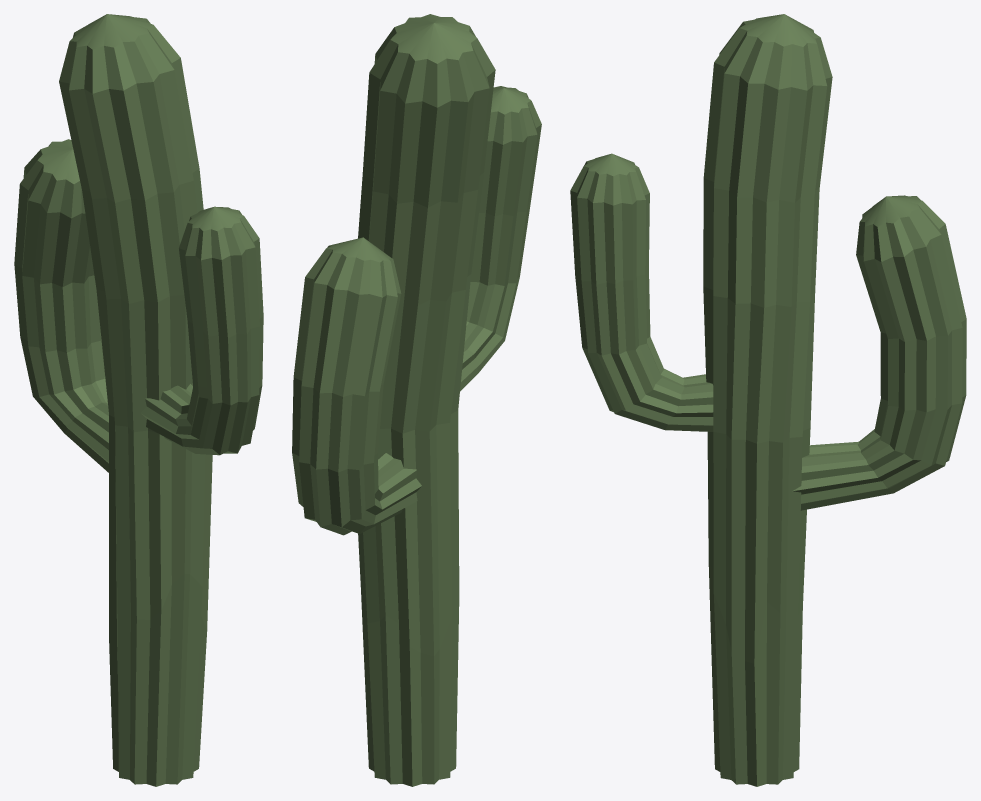
The model's file is Cactus1.glb.
3 views of the same model, side by side, from view 1: azimuth 30°, elevation 25°; view 2: azimuth 150°, elevation 25°; view 3: azimuth 270°, elevation 25° (orthographic). The views are drawn at different scales.
Parts seen in each view (by area): view 1: SM_Env_Cactus_01; view 2: SM_Env_Cactus_01; view 3: SM_Env_Cactus_01.
Boxes of the visible parts, x1=… form: SM_Env_Cactus_01: x1=14, y1=14, x2=263, y2=786; SM_Env_Cactus_01: x1=292, y1=14, x2=541, y2=786; SM_Env_Cactus_01: x1=570, y1=14, x2=966, y2=786.
Bounding box in the file's own units: 0.4818 × 2.6 × 1.26.
